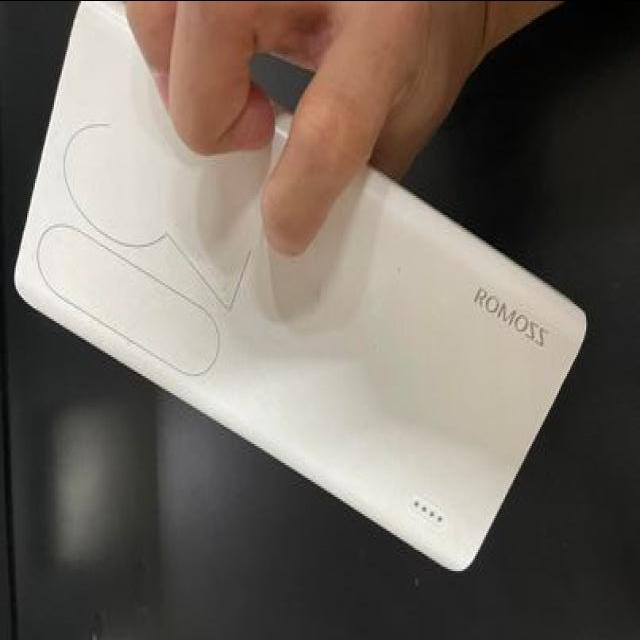portable-charger: (9, 0, 592, 583)
